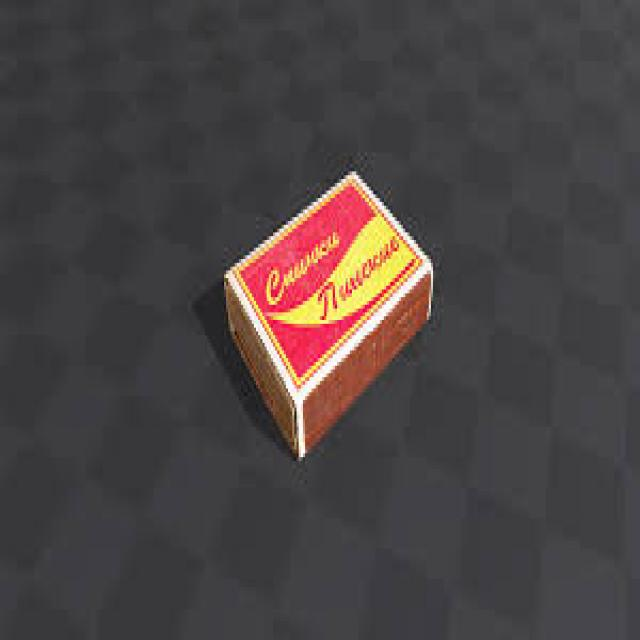match: (220, 164, 437, 465)
